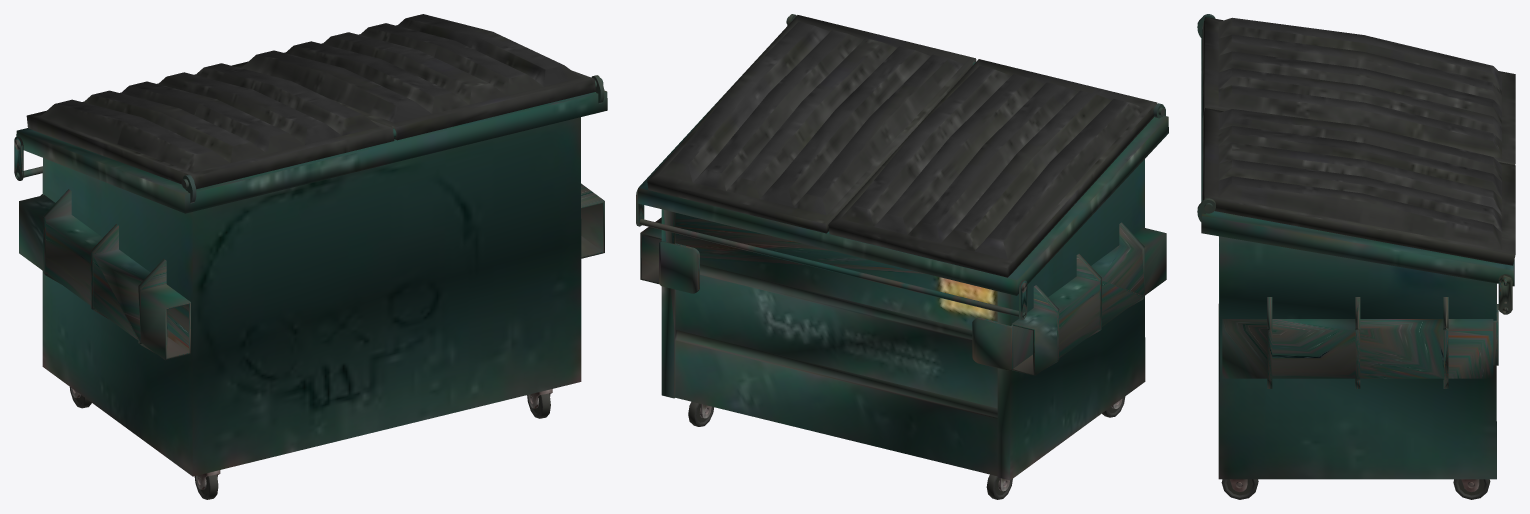
File: dumpster-green.glb
The picture shows the model from 3 angles, left to right: view 1: azimuth 30°, elevation 25°; view 2: azimuth 150°, elevation 25°; view 3: azimuth 270°, elevation 25°; orthographic projection. The views are drawn at different scales.
Visible parts, largest first — view 1: Box001, Box003, Box002; view 2: Box001, Box003, Box002, Cylinder002; view 3: Box003, Box001, Box002, Cylinder004, Cylinder005, Cylinder002, Cylinder003.
Boxes of the visible parts, x1,y1,x2,y2 form: Box001: [16, 90, 607, 476]; Box003: [26, 14, 595, 189]; Box002: [19, 183, 604, 360]; Box001: [637, 31, 1168, 480]; Box003: [647, 15, 1157, 277]; Box002: [640, 217, 1166, 375]; Cylinder002: [636, 189, 1027, 319]; Box003: [1202, 17, 1515, 265]; Box001: [1201, 29, 1514, 479]; Box002: [1222, 297, 1498, 388]; Cylinder004: [1221, 479, 1258, 499]; Cylinder005: [1453, 479, 1490, 499]; Cylinder002: [1498, 274, 1512, 314]; Cylinder003: [1197, 14, 1215, 222].
Bounding box in the file's own units: 1.71 × 1.3 × 1.16.
3 materials, 3 textured.
